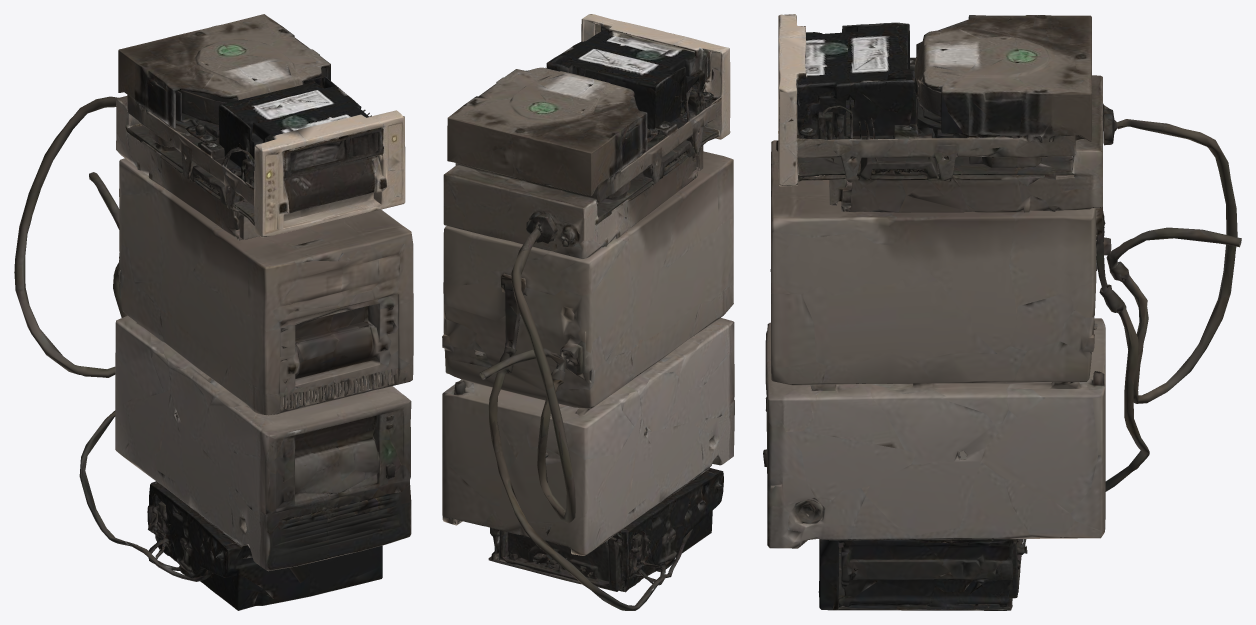
File: audio.glb
The picture shows the model from 3 angles, left to right: view 1: azimuth 30°, elevation 25°; view 2: azimuth 150°, elevation 25°; view 3: azimuth 270°, elevation 25°; orthographic projection. The views are drawn at different scales.
Size of the model in its own units: 0.8029 by 1.91 by 1.58.
Materials: 1 (1 with a texture image).
